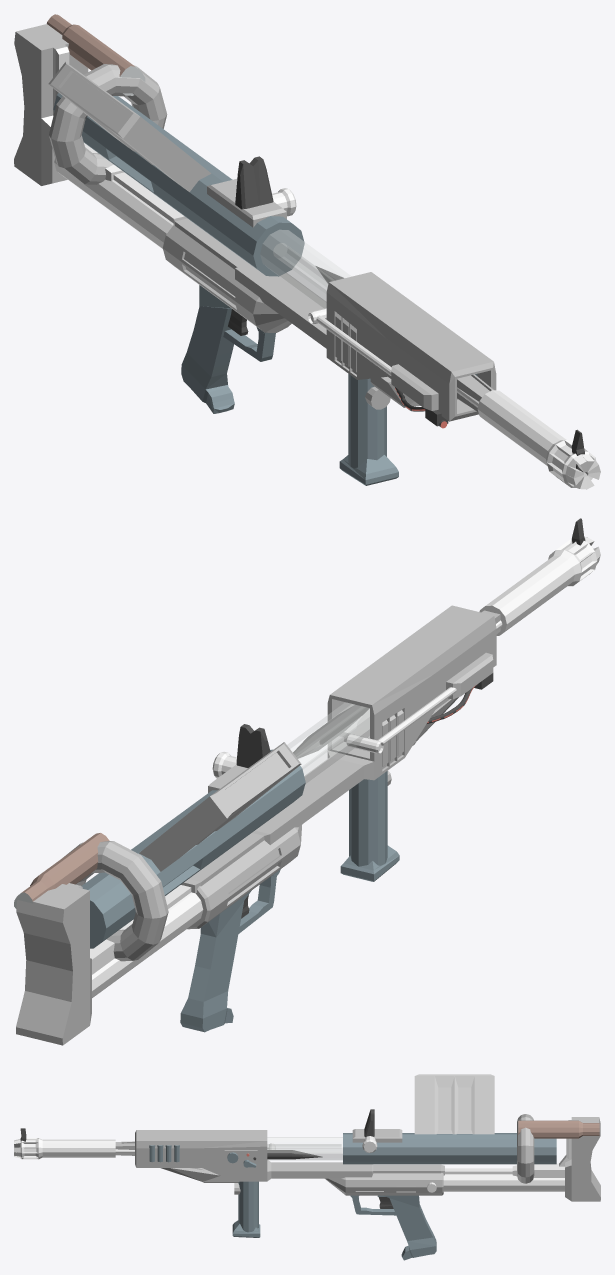
The model's file is rifle.glb.
3 views of the same model, one above another, from view 1: azimuth 30°, elevation 25°; view 2: azimuth 150°, elevation 25°; view 3: azimuth 270°, elevation 25° (orthographic). The views are drawn at different scales.
Visible parts, largest first — view 1: mesh935516115; view 2: mesh935516115; view 3: mesh935516115.
Part boxes in pixels (x1,y1,x2,y2): mesh935516115: (14,14,600,489); mesh935516115: (14,518,600,1045); mesh935516115: (14,1074,600,1260).
Size of the model in its own units: 0.0658 by 0.1311 by 0.426.
